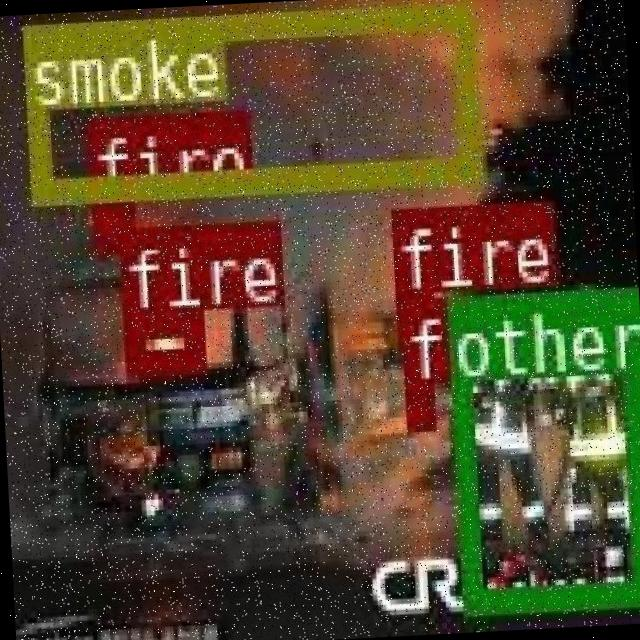smoke: (21, 0, 476, 200)
